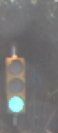Green: (4, 45, 30, 121)
